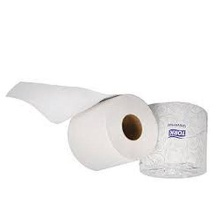tissue: (0, 77, 163, 176), (135, 97, 213, 183)
